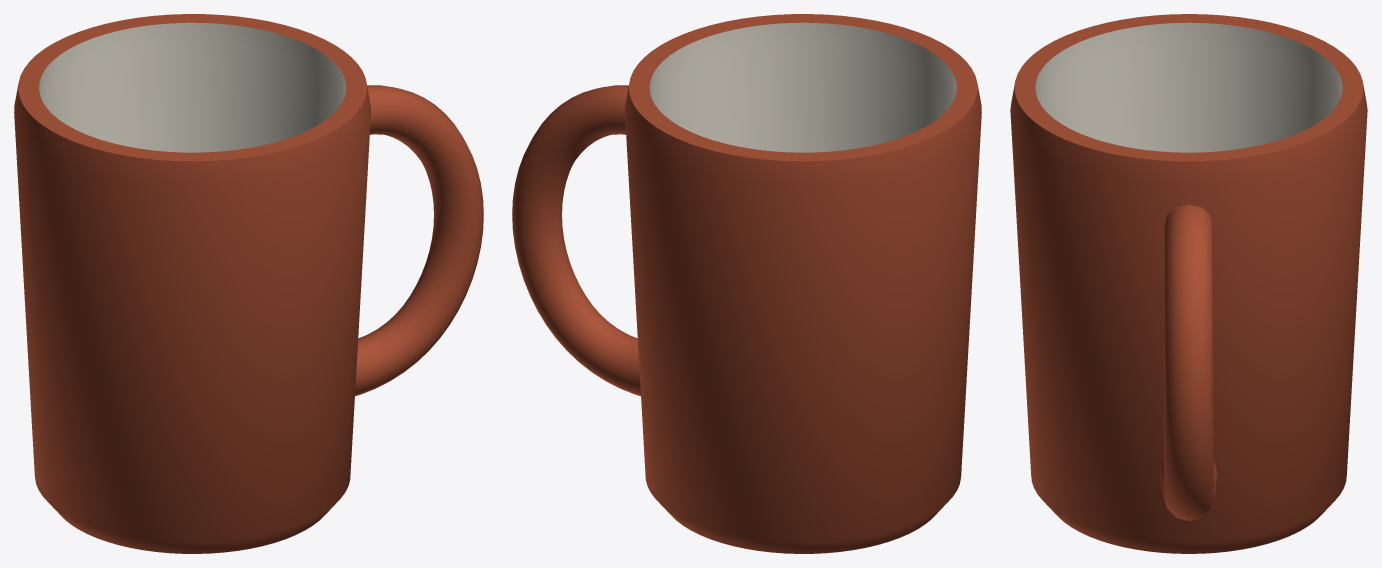
File: mug.glb
The picture shows the model from 3 angles, left to right: view 1: azimuth 30°, elevation 25°; view 2: azimuth 150°, elevation 25°; view 3: azimuth 270°, elevation 25°; orthographic projection.
Visible parts, largest first — view 1: Mug with open cavity, Rounded open handle; view 2: Mug with open cavity, Rounded open handle; view 3: Mug with open cavity, Rounded open handle.
Boxes of the visible parts, bbox=[...] form: Mug with open cavity: bbox=[14, 14, 371, 553]; Rounded open handle: bbox=[355, 85, 483, 395]; Mug with open cavity: bbox=[624, 14, 981, 553]; Rounded open handle: bbox=[512, 85, 640, 395]; Mug with open cavity: bbox=[1010, 14, 1367, 553]; Rounded open handle: bbox=[1160, 204, 1217, 520].
Size of the model in its own units: 0.123 by 0.108 by 0.086.
